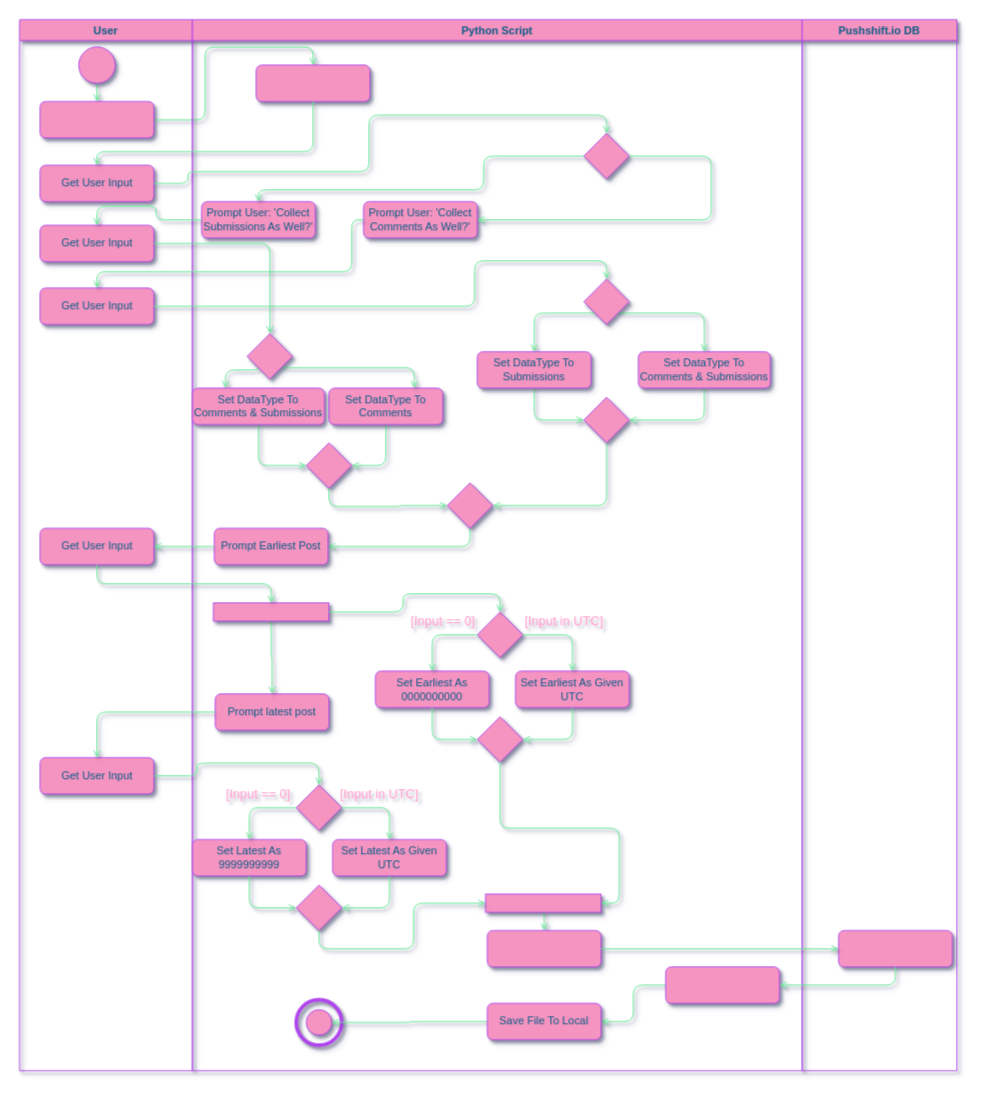
This 984x1098 diagram has some shape labels left out. Each missing label, with the centre of its shape:
[Comments] [Submissions]: (607,157)
[No] [Yes]: (607,302)
[Yes] [No]: (270,357)
Prompt User For Data Type: (313,84)
Query Databade: (545,949)
Return Query: (896,949)
Start Program: (97,120)
Write Data To File: (723,986)
